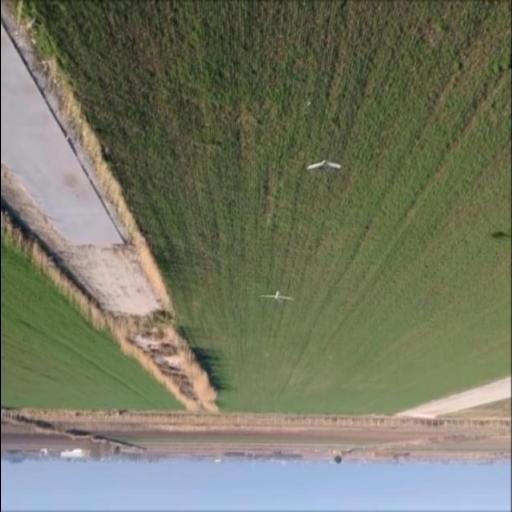uav: (306, 156, 342, 174), (260, 288, 295, 304)
